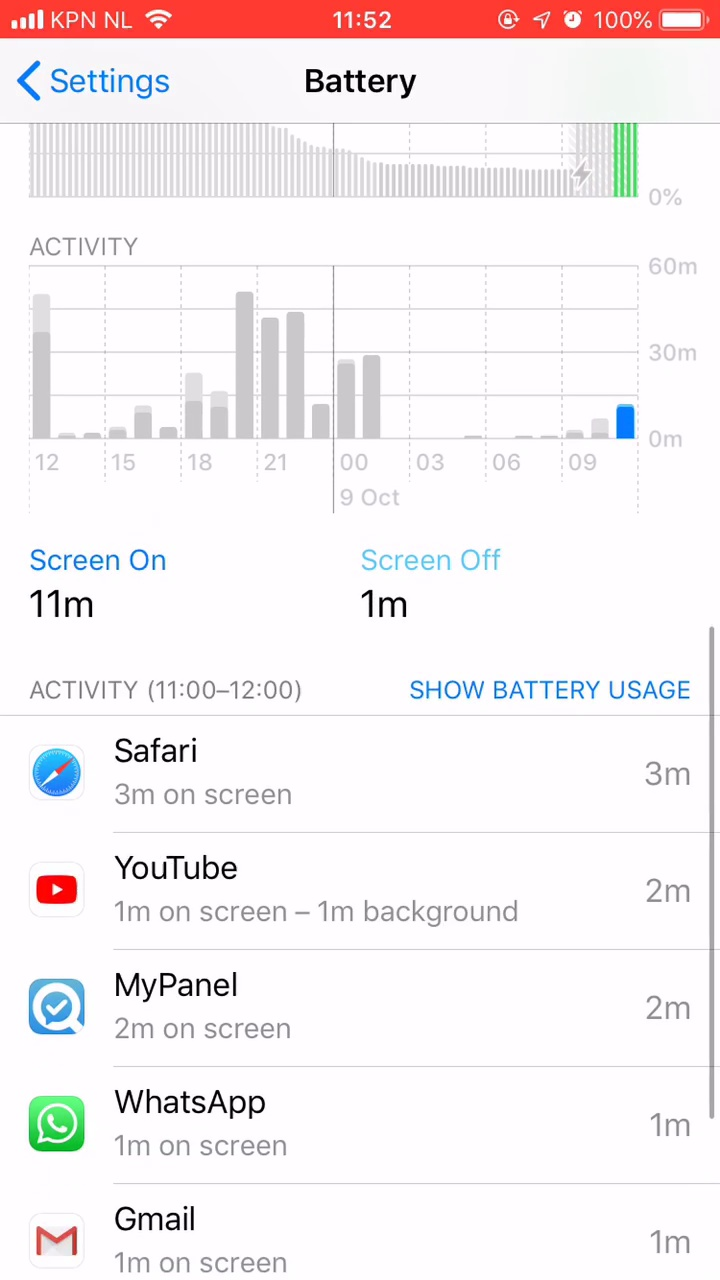activity: (23, 661, 324, 706)
app: (33, 848, 703, 926), (25, 967, 695, 1045), (23, 1085, 693, 1163), (28, 1194, 698, 1272)
